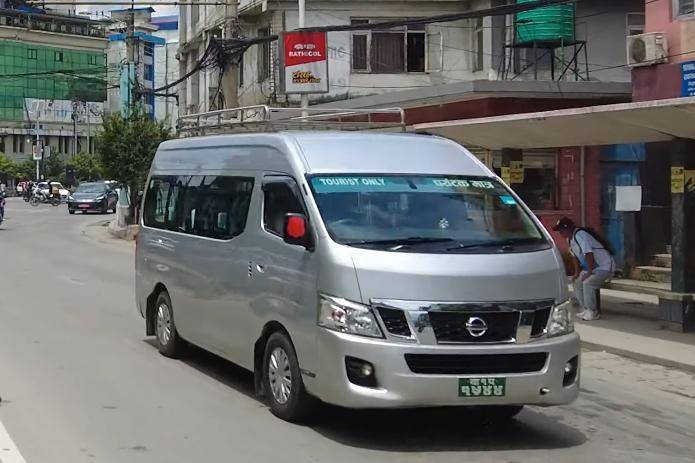bike: (29, 185, 63, 209)
car: (66, 179, 121, 218)
micro_bus: (130, 121, 585, 430)
